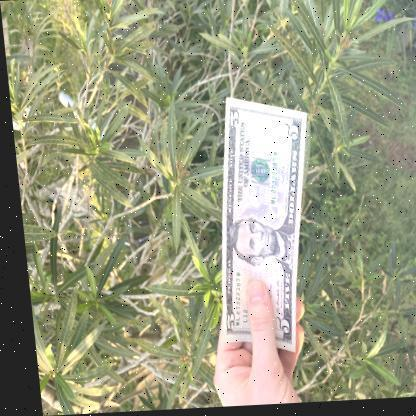dollar_front: (216, 98, 304, 354)
